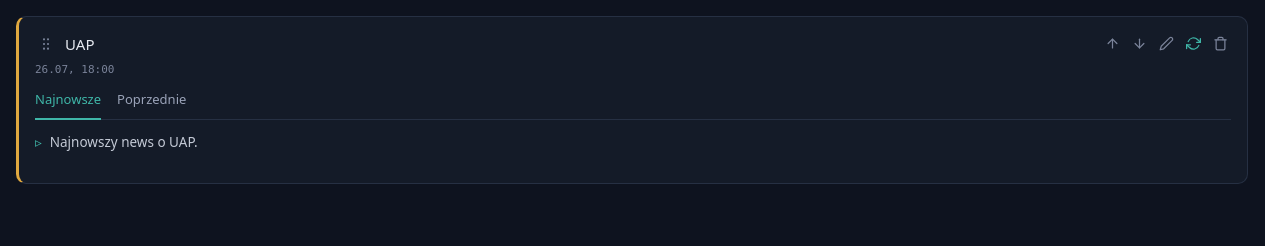
BoxCard › pokazuje komunikat, gdy odświeżenie się nie powiedzie
What coordinates should you click on to do the following:
click the button named "Odśwież temat"
I would click on:
 (1194, 44)
Its box is [1183,33,1204,54].
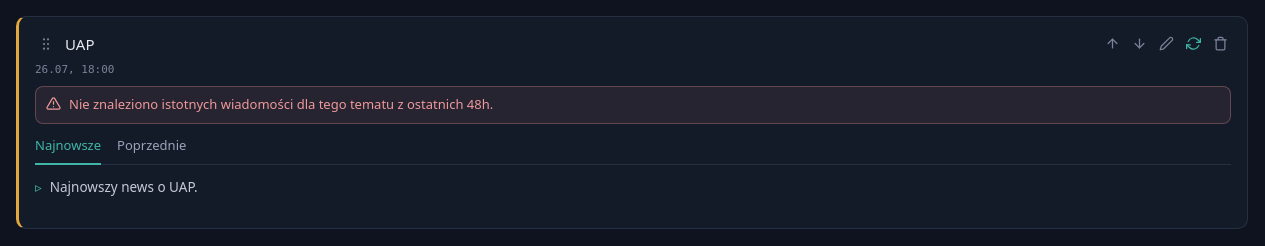
Expected: the message shows "ostatnich 48h", [69,95,493,113]
